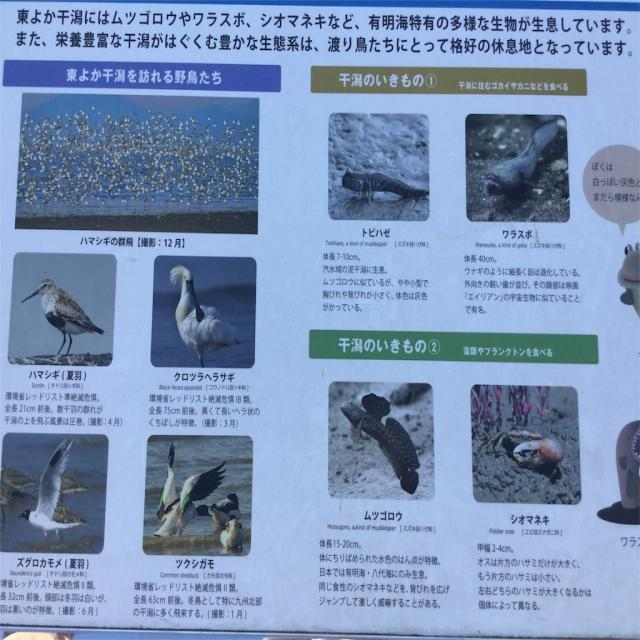bird: (169, 261, 236, 378), (148, 444, 224, 542), (23, 278, 108, 359), (15, 441, 80, 530), (197, 490, 240, 529)
